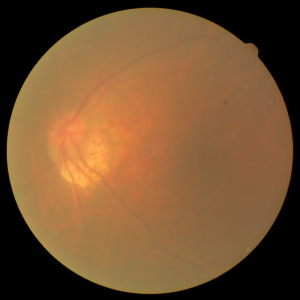cataract: (37, 89, 249, 209)
